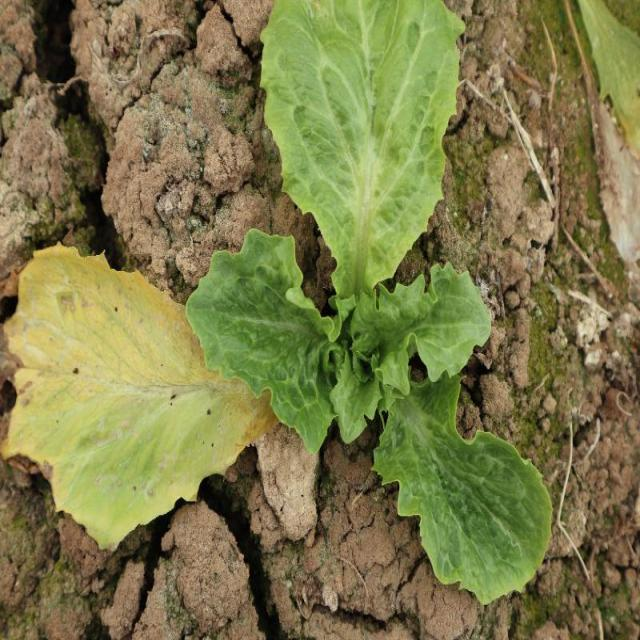crop: (186, 232, 553, 602)
